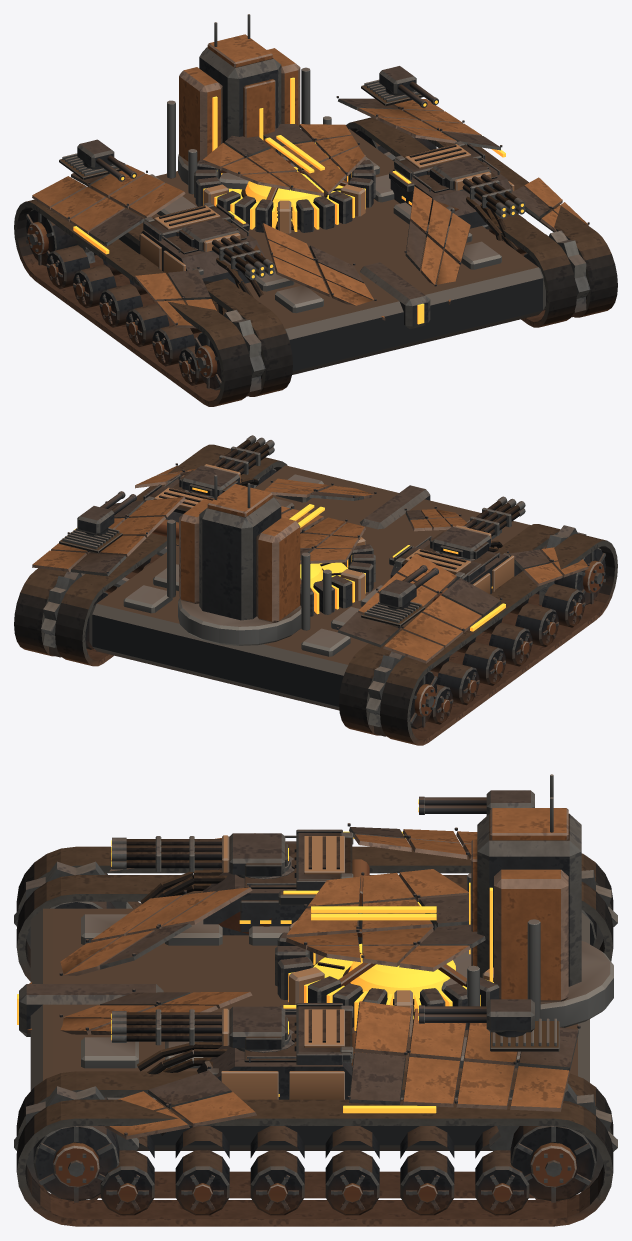
Rendered from bastion-9-v3-study.glb.
3 views of the same model, one above another, from view 1: azimuth 30°, elevation 25°; view 2: azimuth 150°, elevation 25°; view 3: azimuth 270°, elevation 25° (orthographic). The views are drawn at different scales.
Visible parts, largest first — view 1: bastion_hull, bastion_tread_left, bastion_tread_right, bastion_core, bastion_core_shutter_b, bastion_core_shutter_a, bastion_battery_left, bastion_gun_left, bastion_gun_right, bastion_idler_left, bastion_battery_right, bastion_sprocket_left (+11 smaller); view 2: bastion_hull, bastion_tread_left, bastion_tread_right, bastion_core, bastion_gun_left, bastion_gun_right, bastion_core_shutter_a, bastion_sprocket_left, bastion_idler_left, bastion_battery_left, bastion_sprocket_right, bastion_roadwheel_left_2 (+9 smaller); view 3: bastion_hull, bastion_tread_right, bastion_tread_left, bastion_core, bastion_core_shutter_a, bastion_sprocket_right, bastion_core_shutter_b, bastion_idler_right, bastion_gun_right, bastion_gun_left, bastion_battery_right, bastion_battery_left (+12 smaller).
Boxes of the visible parts, <box> form: bastion_hull: <box>32,14,589,374</box>; bastion_tread_left: <box>14,186,292,406</box>; bastion_tread_right: <box>346,117,617,327</box>; bastion_core: <box>194,135,375,233</box>; bastion_core_shutter_b: <box>263,124,365,194</box>; bastion_core_shutter_a: <box>202,135,323,196</box>; bastion_battery_left: <box>139,219,264,284</box>; bastion_gun_left: <box>179,218,274,280</box>; bastion_gun_right: <box>430,156,525,218</box>; bastion_idler_left: <box>194,310,265,396</box>; bastion_battery_right: <box>390,158,518,228</box>; bastion_sprocket_left: <box>26,209,96,266</box>; bastion_hull: <box>32,463,589,710</box>; bastion_tread_left: <box>339,524,617,745</box>; bastion_tread_right: <box>14,444,287,666</box>; bastion_core: <box>300,525,375,616</box>; bastion_gun_left: <box>430,496,525,559</box>; bastion_gun_right: <box>179,435,274,498</box>; bastion_core_shutter_a: <box>298,506,365,564</box>; bastion_sprocket_left: <box>366,651,437,736</box>; bastion_idler_left: <box>519,525,605,605</box>; bastion_battery_left: <box>390,536,518,601</box>; bastion_sprocket_right: <box>41,570,107,657</box>; bastion_roadwheel_left_2: <box>457,622,532,666</box>; bastion_hull: <box>17,774,613,1150</box>; bastion_tread_right: <box>16,1071,613,1226</box>; bastion_tread_left: <box>16,846,613,981</box>; bastion_core: <box>275,901,499,1036</box>; bastion_core_shutter_a: <box>286,869,471,938</box>; bastion_sprocket_right: <box>489,1083,617,1202</box>; bastion_core_shutter_b: <box>286,913,485,971</box>; bastion_idler_right: <box>14,1086,138,1202</box>; bastion_gun_right: <box>111,1006,290,1051</box>; bastion_gun_left: <box>111,833,290,877</box>; bastion_battery_right: <box>203,1009,366,1099</box>; bastion_battery_left: <box>203,835,369,935</box>.
Bounding box in the file's own units: 7.26 × 3.6 × 6.48.
Materials: 3 (1 with a texture image).
